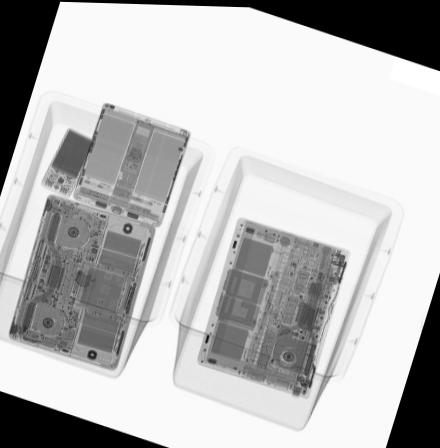Powerbank: (37, 123, 97, 197)
